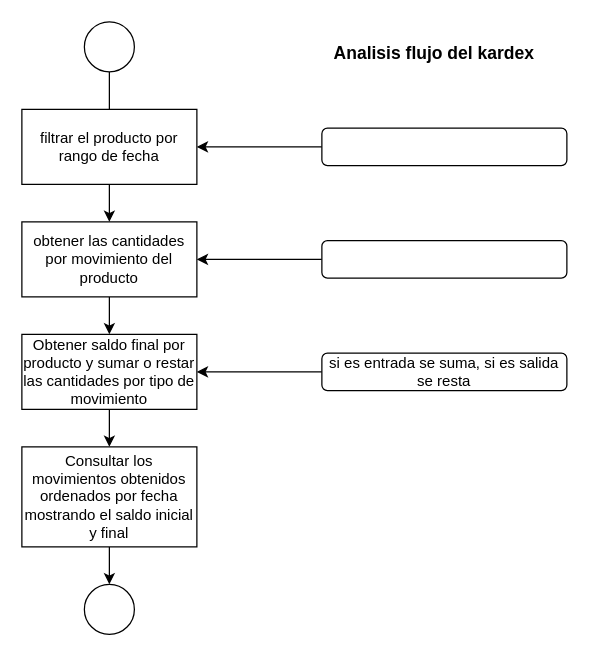
Image size: 594x656. Some labels were removed from this diagram. The shapes that lost their labels are listed below. From the top down, each one's centre as x and y in pixels, then its label:
At (x=444, y=146): "fecha_inicial fecha_final".
At (x=444, y=258): "id_codigo_producto".
